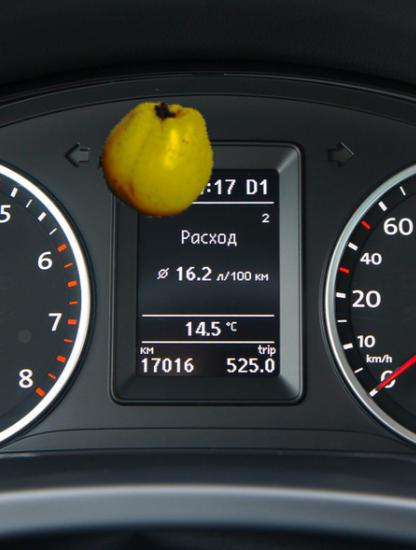Quince: (96, 99, 217, 220)
